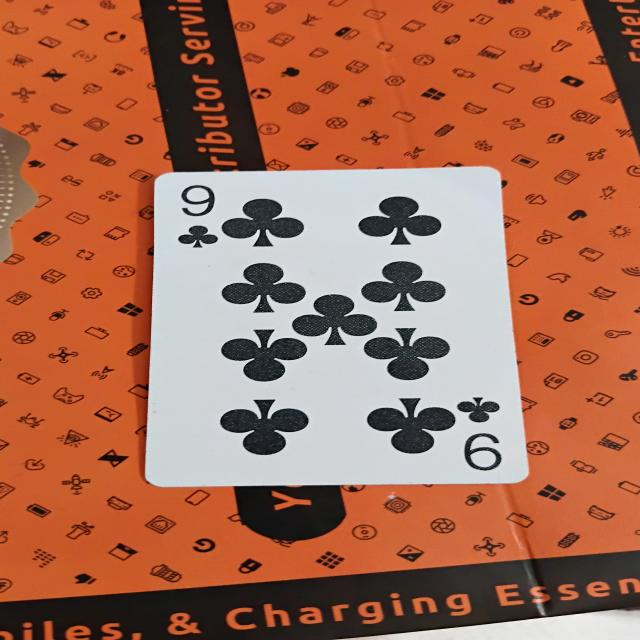9C: (145, 169, 532, 485)
